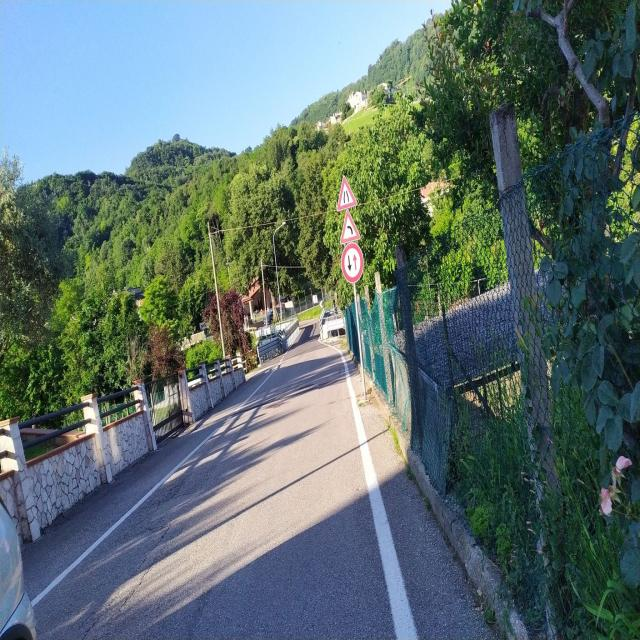car: (320, 309, 346, 338), (207, 359, 222, 379)
